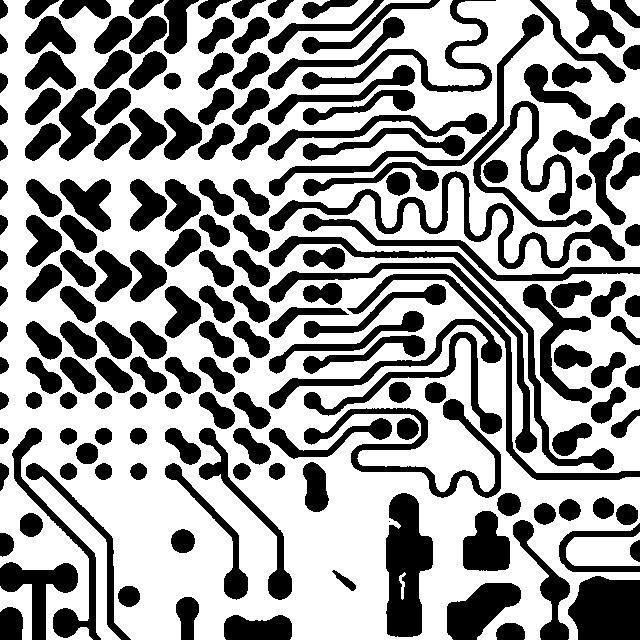copper: (322, 560, 365, 600)
mousebite: (375, 508, 410, 538)
open: (331, 296, 364, 327)
pin-hole: (389, 562, 415, 609)
short: (201, 452, 236, 485)
